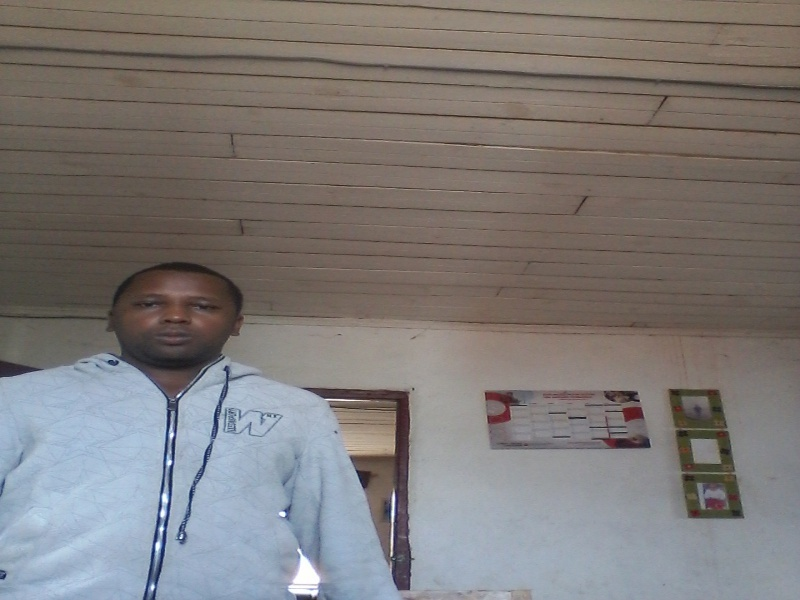TsisyArotava: (94, 255, 271, 392)
